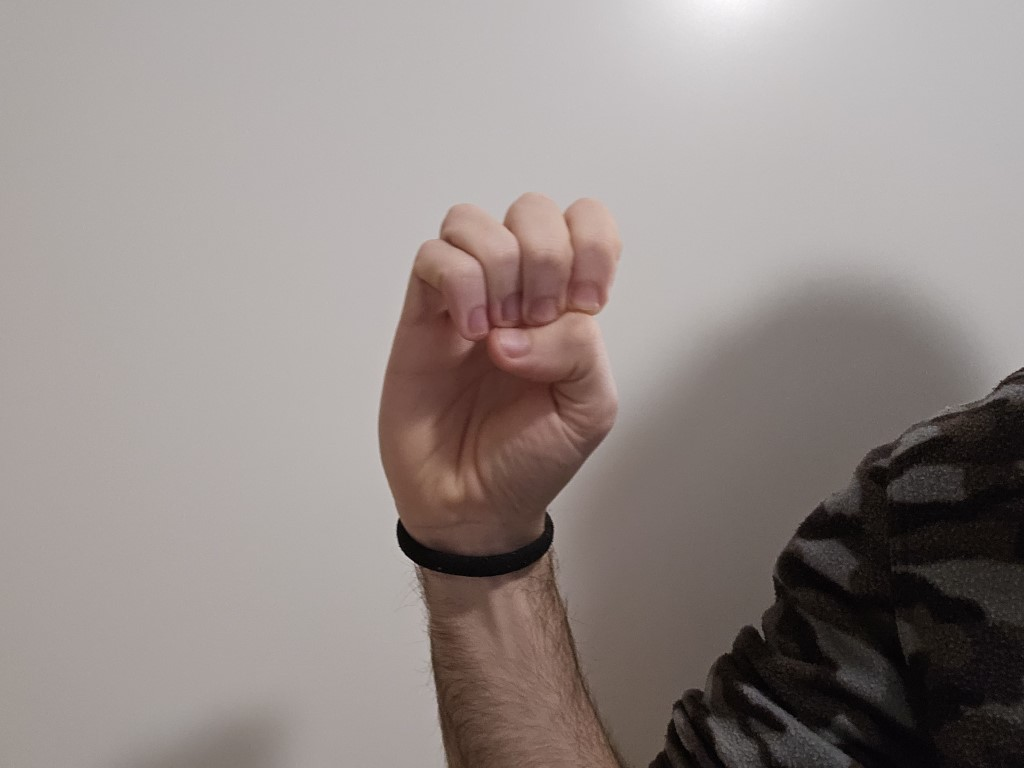e: (338, 180, 642, 547)
